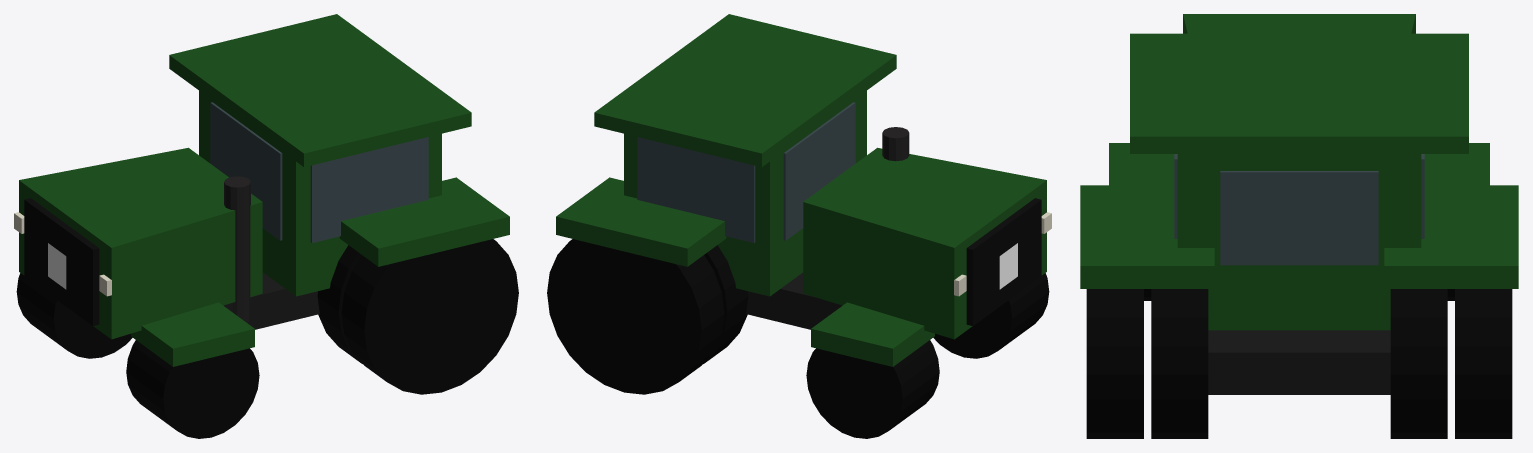
File: tractorv2.obj
3 renders of one model, left to right at view 1: azimuth 30°, elevation 25°; view 2: azimuth 150°, elevation 25°; view 3: azimuth 270°, elevation 25°, orthographic. The views are drawn at different scales.
Parts seen in each view (by area): view 1: hood, roof, wheel_rear_R_out, wheel_front_R, fender_rear_R, window_R, cab, grille_black, window_front, fender_front_R, wheel_front_L, exhaust (+3 smaller); view 2: hood, roof, wheel_rear_L_out, wheel_front_L, fender_rear_L, window_L, cab, grille_black, window_front, fender_front_L, wheel_front_R, frame (+3 smaller); view 3: roof, cab, window_back, frame, fender_rear_L, fender_rear_R, wheel_rear_L_in, wheel_rear_L_out, wheel_rear_R_in, wheel_rear_R_out, hood, fender_front_L (+1 smaller).
Boxes of the visible parts, <box> form: hood: <box>19,147,262,339</box>; roof: <box>169,14,471,167</box>; wheel_rear_R_out: <box>341,239,518,394</box>; wheel_front_R: <box>126,340,259,438</box>; fender_rear_R: <box>339,177,509,266</box>; window_R: <box>310,137,428,242</box>; cab: <box>199,91,441,296</box>; grille_black: <box>24,198,99,325</box>; window_front: <box>210,102,282,240</box>; fender_front_R: <box>131,302,254,366</box>; wheel_front_L: <box>16,273,132,358</box>; exhaust: <box>224,176,250,322</box>; hood: <box>803,147,1046,339</box>; roof: <box>594,14,896,167</box>; wheel_rear_L_out: <box>547,239,724,394</box>; wheel_front_L: <box>806,340,939,438</box>; fender_rear_L: <box>556,177,726,266</box>; window_L: <box>637,137,755,242</box>; cab: <box>624,91,866,296</box>; grille_black: <box>966,198,1041,325</box>; window_front: <box>783,102,855,240</box>; fender_front_L: <box>811,302,934,366</box>; wheel_front_R: <box>933,273,1049,358</box>; frame: <box>746,272,842,329</box>; roof: <box>1130,33,1468,153</box>; cab: <box>1177,154,1421,330</box>; window_back: <box>1220,171,1378,265</box>; frame: <box>1208,330,1390,394</box>; fender_rear_L: <box>1384,185,1518,288</box>; fender_rear_R: <box>1080,185,1214,288</box>; wheel_rear_L_in: <box>1390,289,1447,438</box>; wheel_rear_L_out: <box>1455,289,1512,438</box>; wheel_rear_R_in: <box>1151,289,1208,438</box>; wheel_rear_R_out: <box>1086,289,1143,438</box>; hood: <box>1183,14,1415,33</box>; fender_front_L: <box>1424,143,1489,185</box>.
Bounding box in the file's own units: 25.85 × 16.75 × 20.7.
